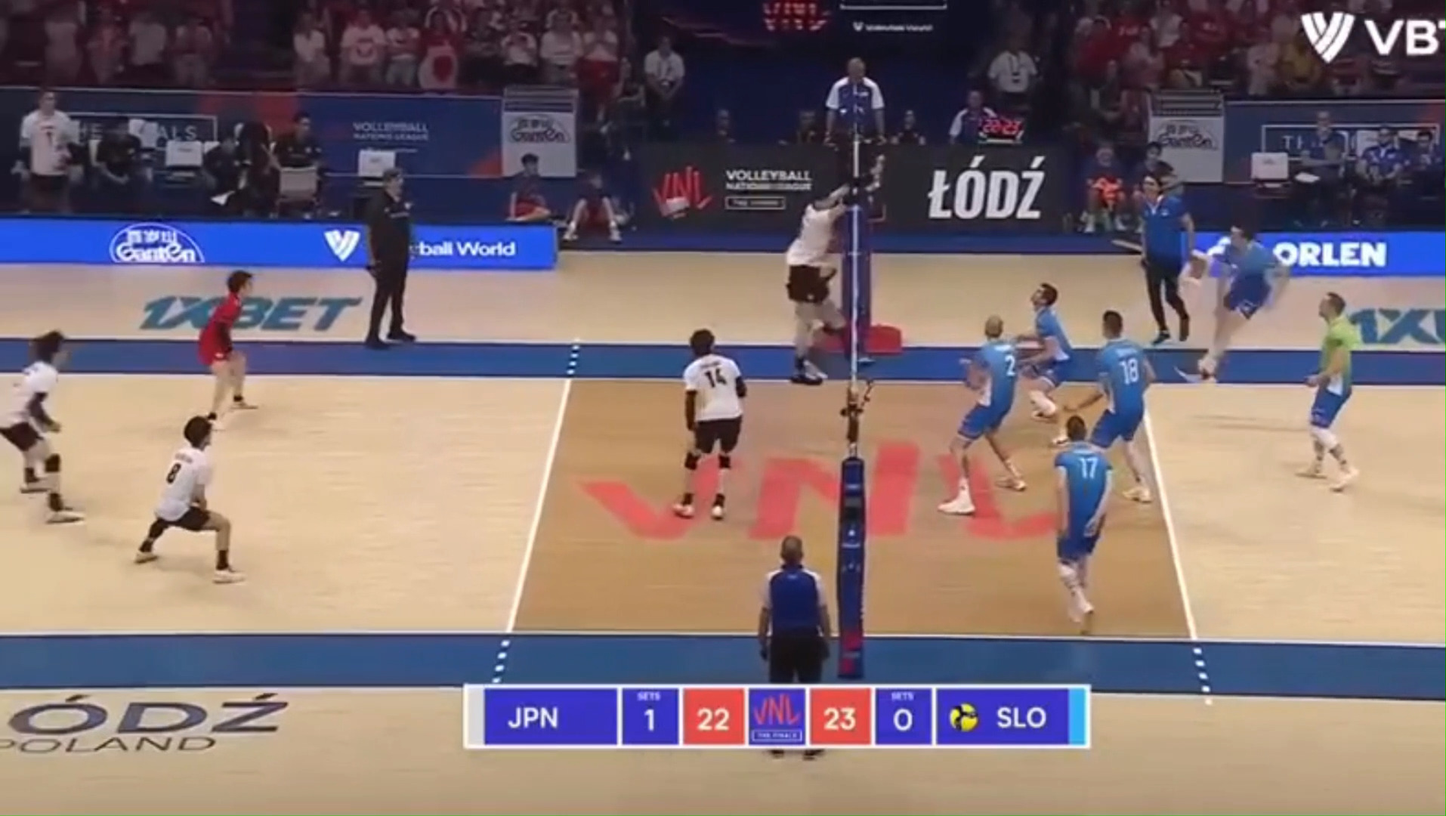ball: (663, 196, 690, 216)
player: (938, 315, 1026, 515), (1182, 225, 1289, 381), (1071, 311, 1152, 502), (1055, 416, 1112, 633), (1299, 292, 1359, 492), (1015, 283, 1076, 421)
player 1: (136, 416, 242, 582), (0, 331, 82, 523), (672, 329, 747, 520), (785, 185, 848, 385), (199, 270, 252, 419)
referee: (757, 536, 830, 684), (1139, 175, 1194, 344), (364, 168, 415, 350), (827, 58, 885, 190)
